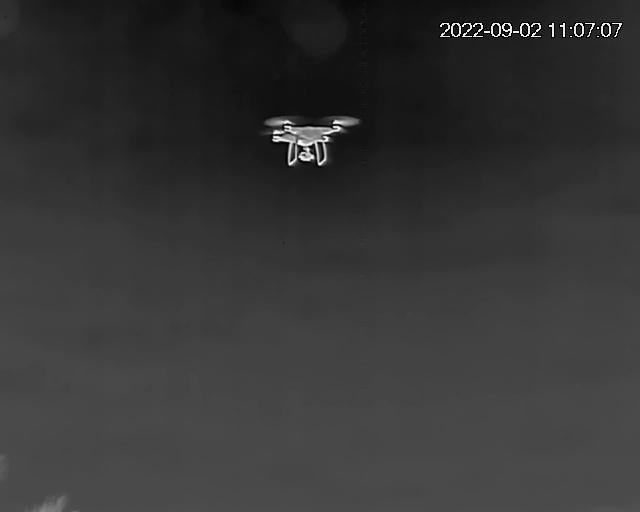DJI-Phantom: (269, 118, 358, 167)
